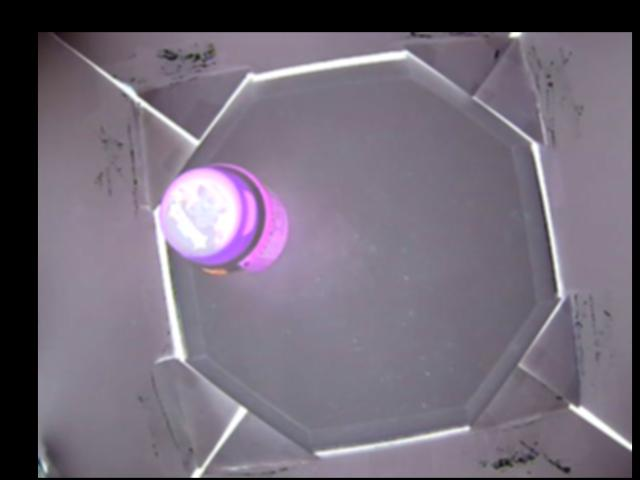Bottle: (159, 161, 292, 277)
